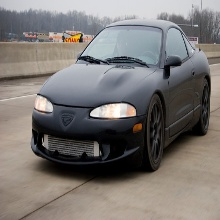no damage: (31, 19, 212, 172)
